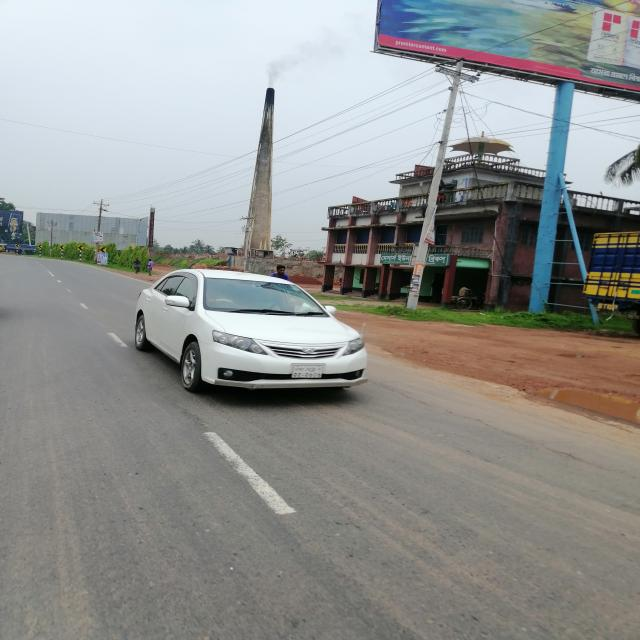Car: (99, 253, 403, 430)
